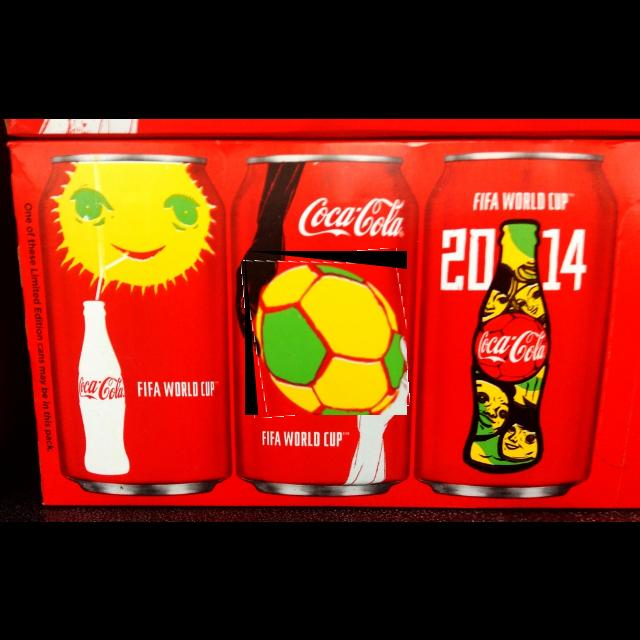Football: (245, 251, 407, 415)
